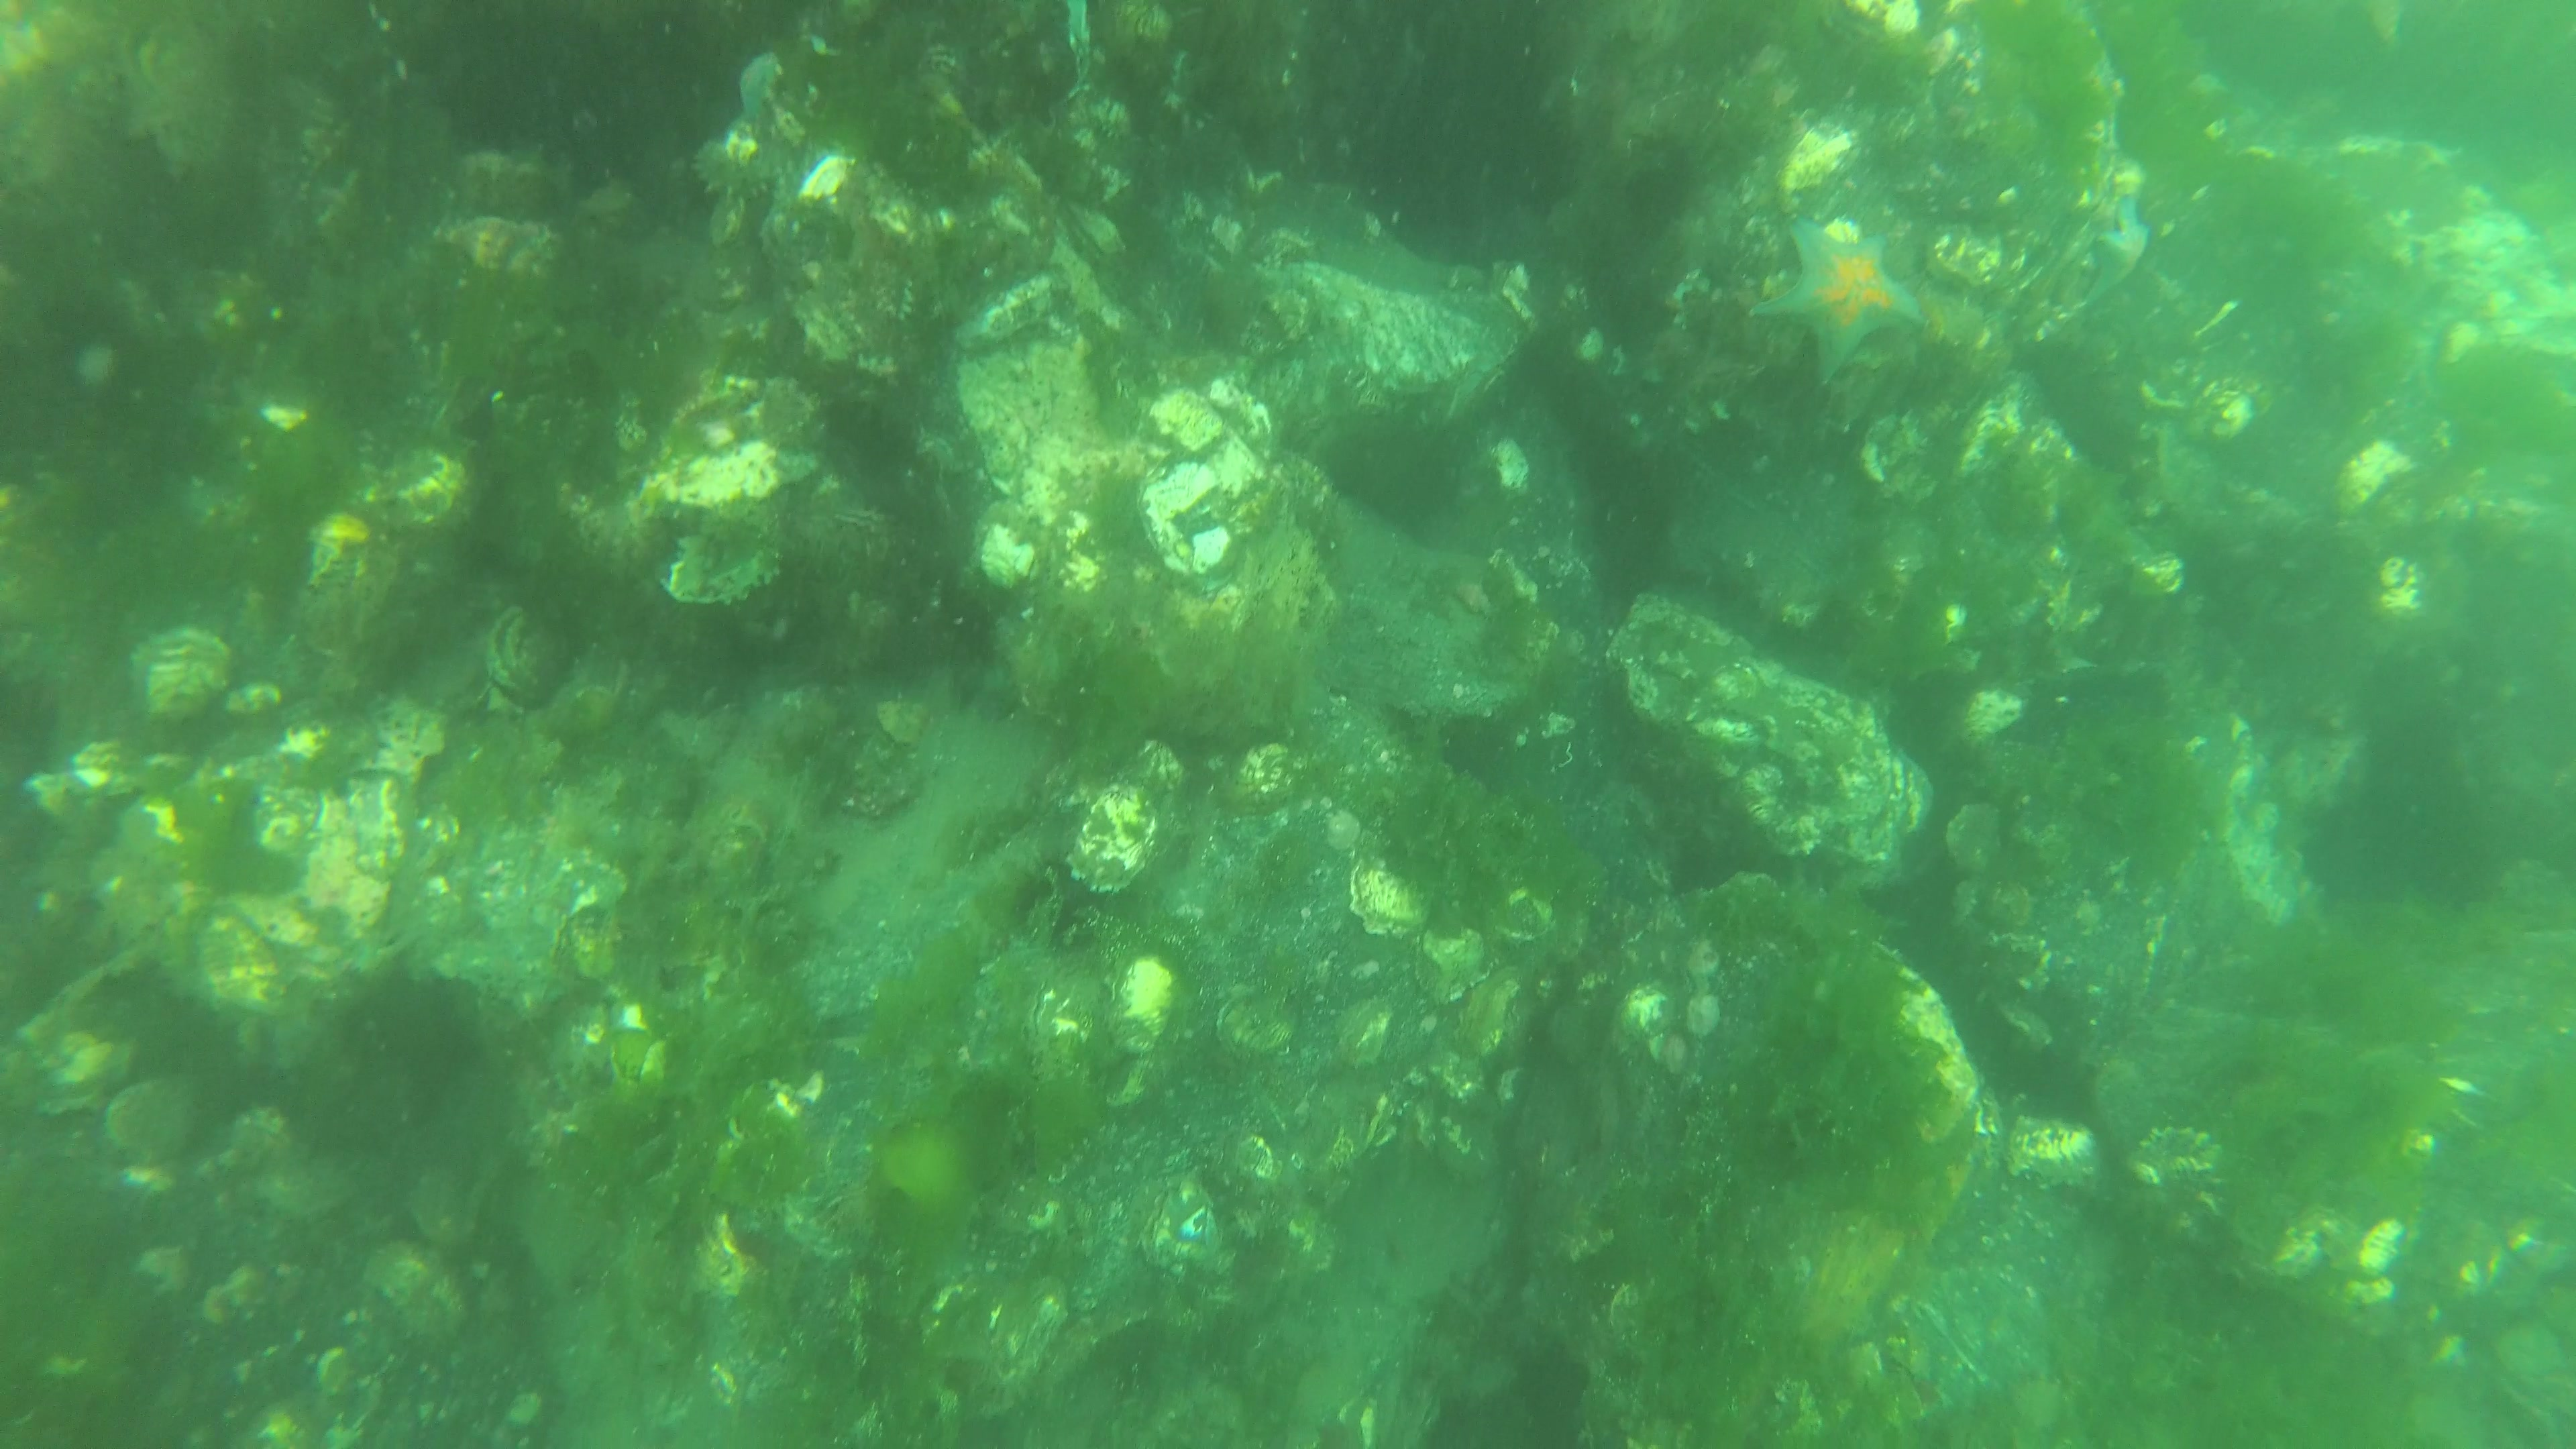holothurian: (690, 142, 784, 196)
starfish: (1757, 211, 1928, 380), (2082, 191, 2155, 317), (732, 51, 786, 122), (1056, 2, 1097, 85)
